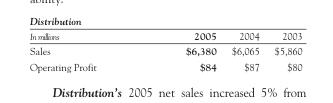table: (28, 29, 301, 71)
table column: (28, 29, 140, 71), (140, 29, 223, 71), (223, 29, 266, 71), (266, 29, 301, 71)
table column header: (28, 29, 301, 43)
table row: (28, 43, 301, 58), (28, 29, 301, 43), (28, 58, 301, 71)
